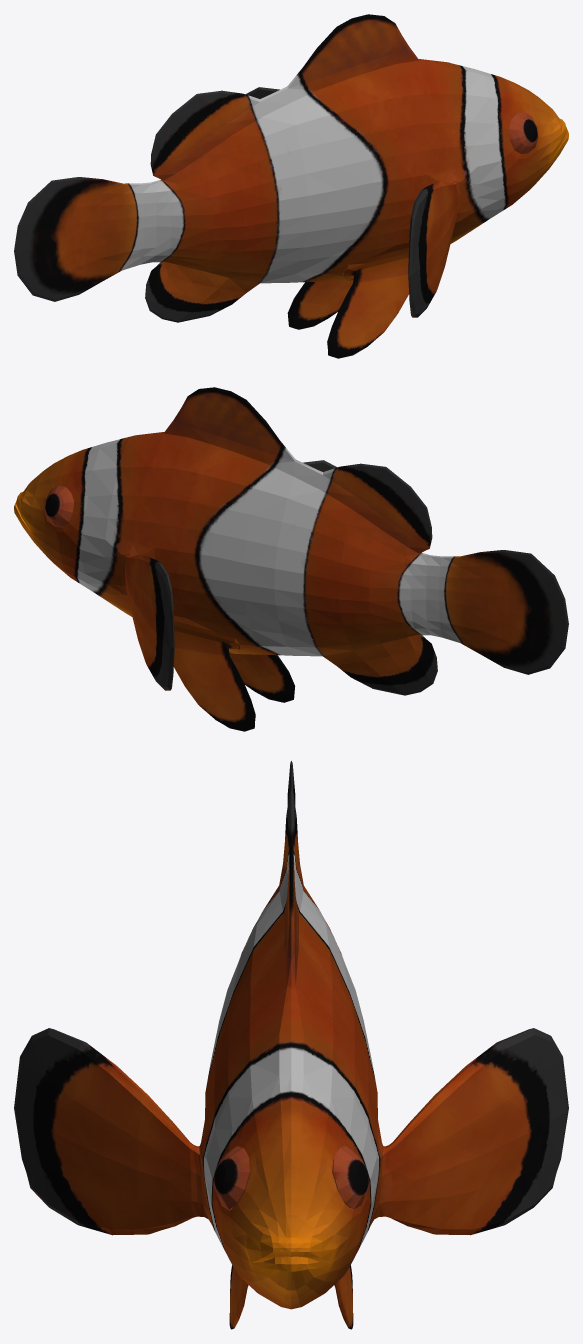
Rendered from clownfish.glb.
3 renders of one model, top to bottom at view 1: azimuth 30°, elevation 25°; view 2: azimuth 150°, elevation 25°; view 3: azimuth 270°, elevation 25°, orthographic. The views are drawn at different scales.
Parts seen in each view (by area): view 1: clownfish; view 2: clownfish; view 3: clownfish.
Boxes of the visible parts, left/top/right/bottom form: clownfish: left=14, top=14, right=568, bottom=358; clownfish: left=14, top=387, right=568, bottom=731; clownfish: left=14, top=761, right=568, bottom=1329.
Size of the model in its own units: 1 by 0.5494 by 0.5633.
Materials: 1 (1 with a texture image).
